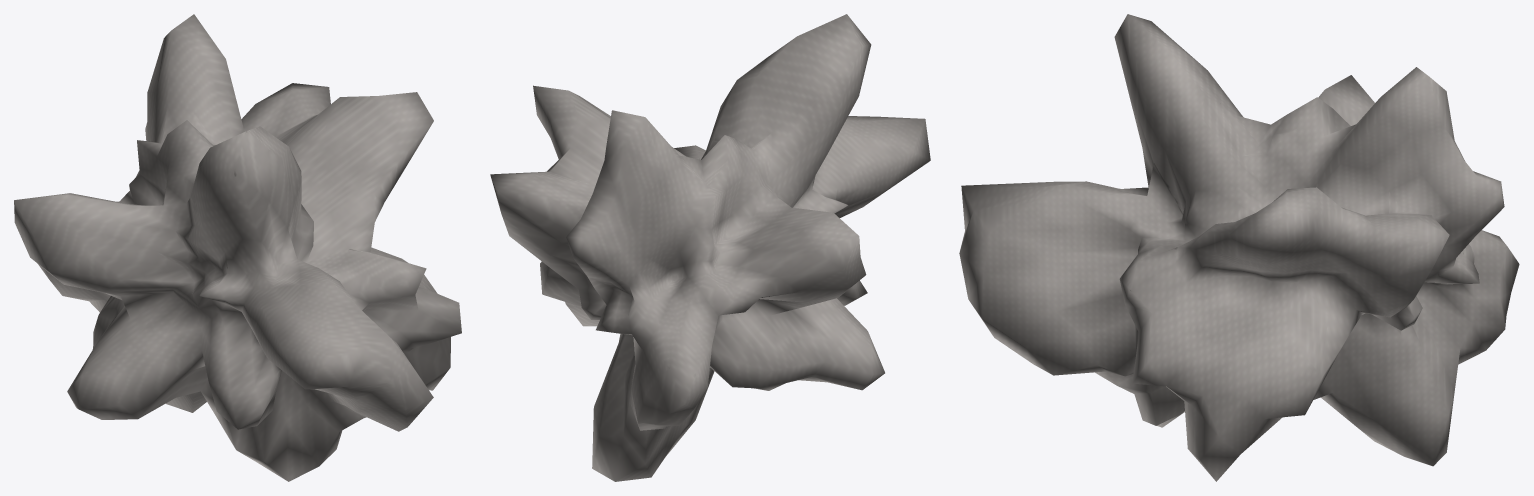
The model's file is rock_chunk_angular.glb.
The picture shows the model from 3 angles, left to right: view 1: azimuth 30°, elevation 25°; view 2: azimuth 150°, elevation 25°; view 3: azimuth 270°, elevation 25°; orthographic projection. The views are drawn at different scales.
Parts seen in each view (by area): view 1: rock_chunk_angular; view 2: rock_chunk_angular; view 3: rock_chunk_angular.
Boxes of the visible parts, x1,y1,x2,y2 form: rock_chunk_angular: (14, 14, 461, 481); rock_chunk_angular: (490, 14, 930, 481); rock_chunk_angular: (959, 14, 1519, 481).
Bounding box in the file's own units: 0.9885 × 0.9919 × 1.26.
1 material, 1 textured.
